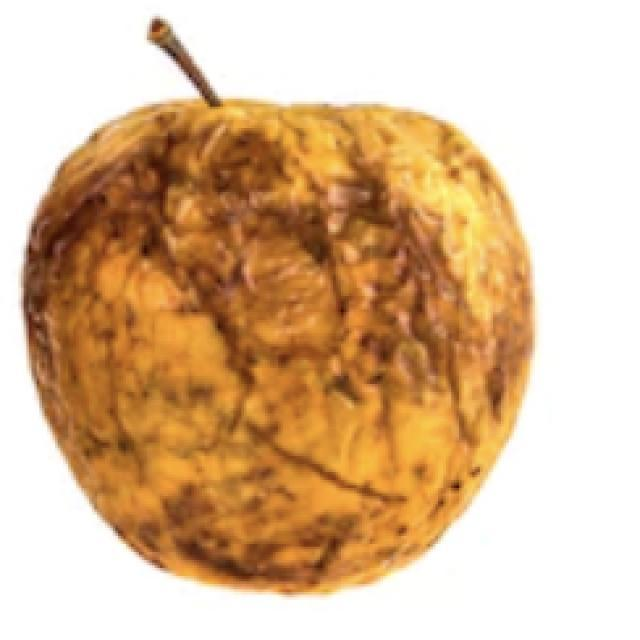Rotten: (67, 103, 535, 600)
